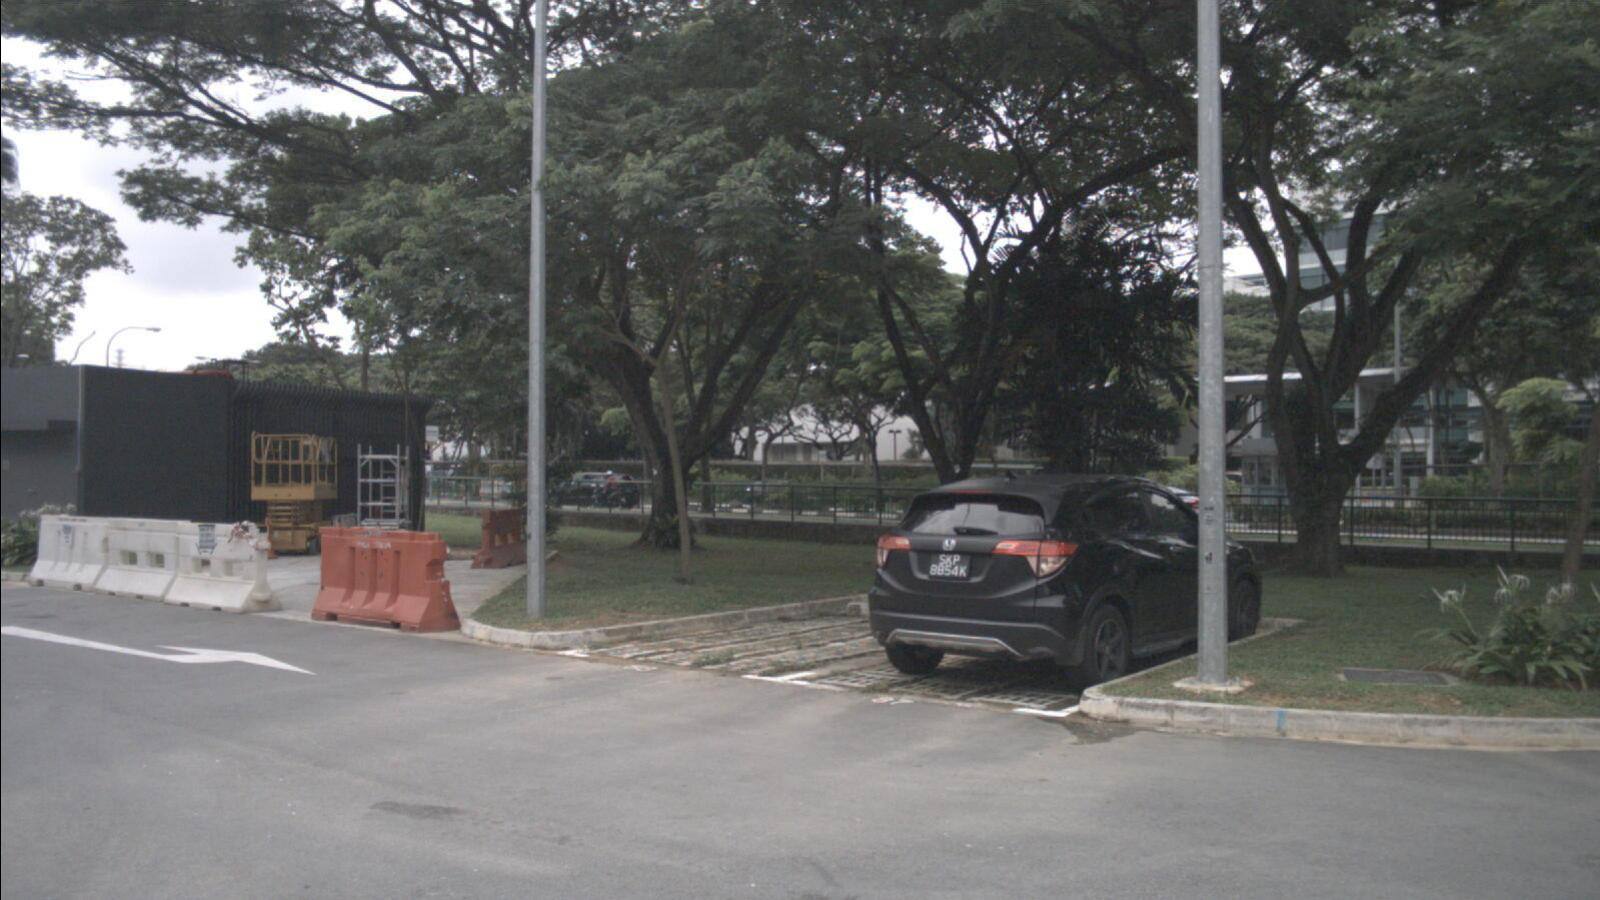vehicle.motorcycle-cycle.with_rider: (588, 471, 632, 512)
